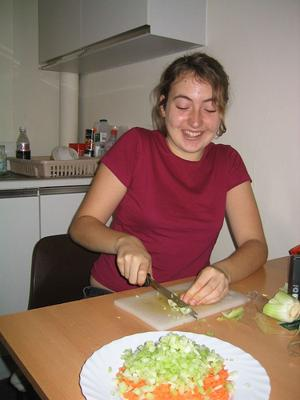person: (66, 48, 272, 309)
